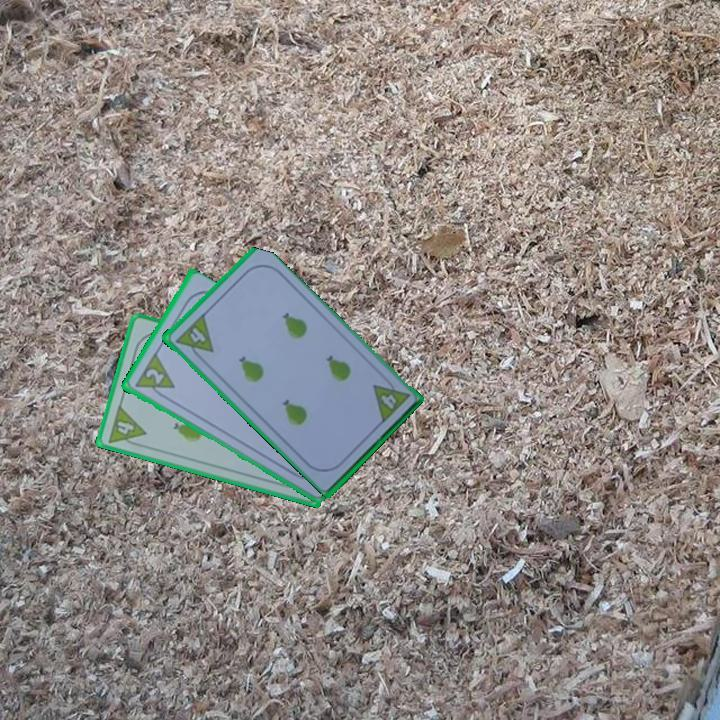2p: (141, 365, 166, 388)
4p: (171, 311, 216, 364), (369, 372, 412, 425), (105, 402, 149, 451)
